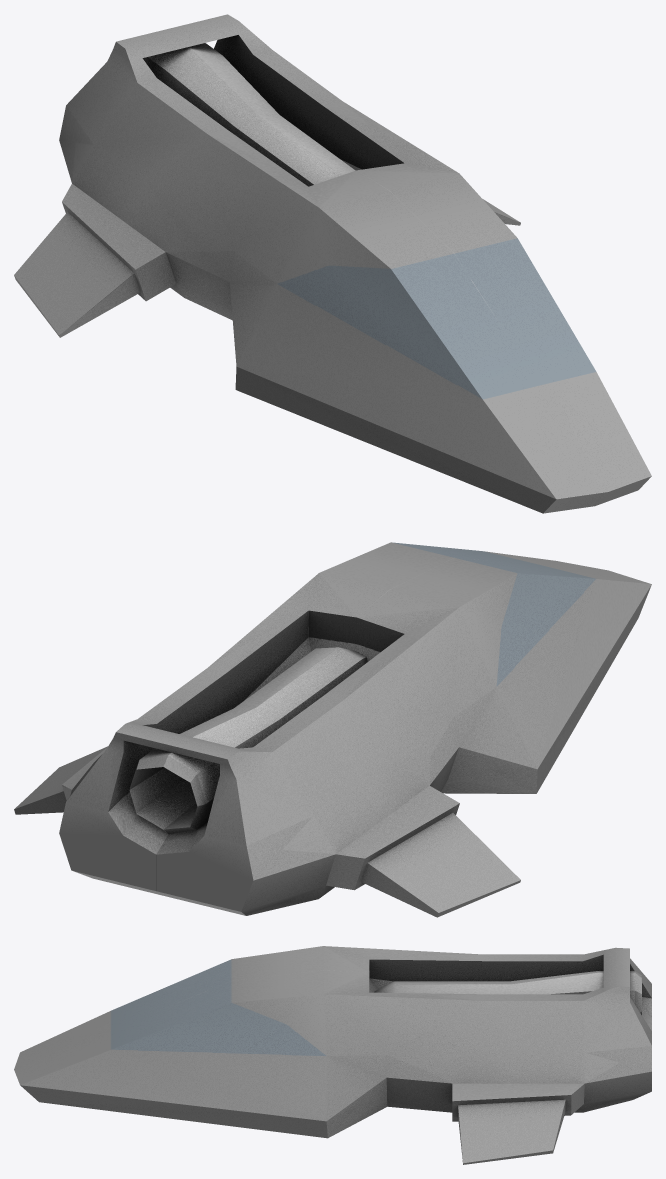
The model's file is Ship1.fbx.
3 views of the same model, one above another, from view 1: azimuth 30°, elevation 25°; view 2: azimuth 150°, elevation 25°; view 3: azimuth 270°, elevation 25° (orthographic). The views are drawn at different scales.
Parts seen in each view (by area): view 1: Ship_body; view 2: Ship_body; view 3: Ship_body.
Part boxes in pixels (x1,y1,x2,y2): Ship_body: (14,14,651,513); Ship_body: (14,542,651,917); Ship_body: (14,946,651,1164).
Size of the model in its own units: 137 by 48.04 by 233.
Materials: 3 (3 with a texture image).
